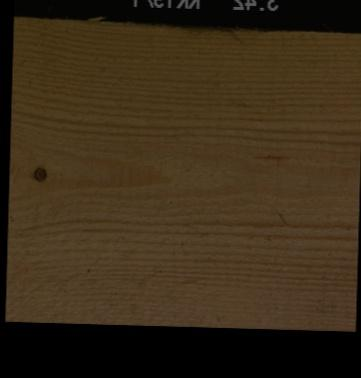dry_knot: (31, 164, 47, 182)
